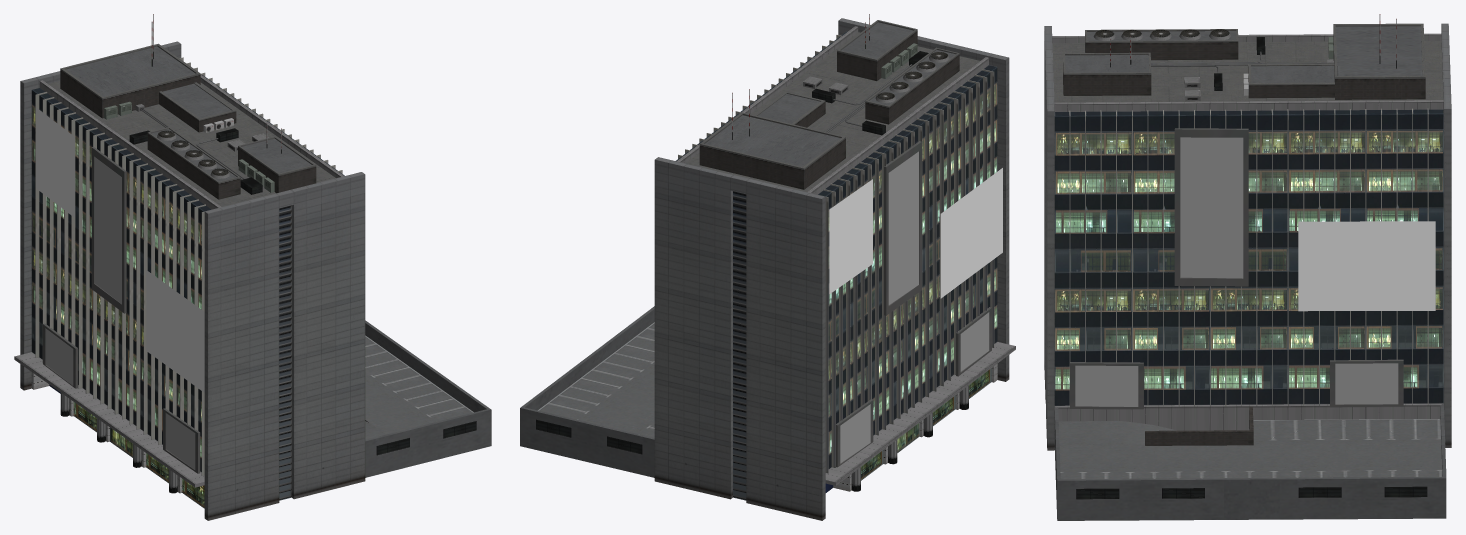
Rendered from BLD1310004.fbx.
3 views of the same model, side by side, from view 1: azimuth 30°, elevation 25°; view 2: azimuth 150°, elevation 25°; view 3: azimuth 270°, elevation 25° (orthographic). The views are drawn at different scales.
Parts seen in each view (by area): view 1: smBLD1310004; view 2: smBLD1310004; view 3: smBLD1310004.
Boxes of the visible parts, x1,y1,x2,y2 form: smBLD1310004: (14,14,491,520); smBLD1310004: (520,14,1015,520); smBLD1310004: (1044,14,1451,520).
Bounding box in the file's own units: 2658 × 3067 × 2799.
Materials: 5 (1 with a texture image).
